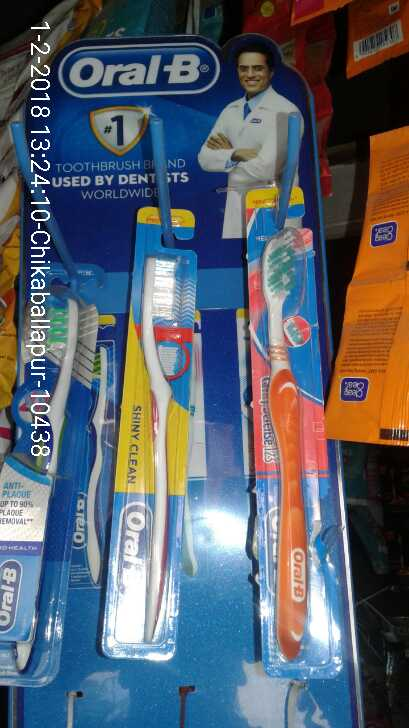oralb: (233, 179, 350, 689), (112, 201, 183, 664), (11, 276, 86, 691)
